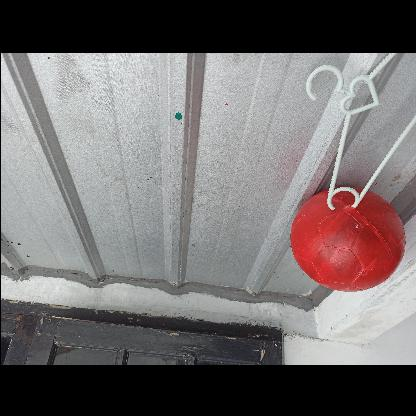red_ball: (288, 184, 400, 296)
